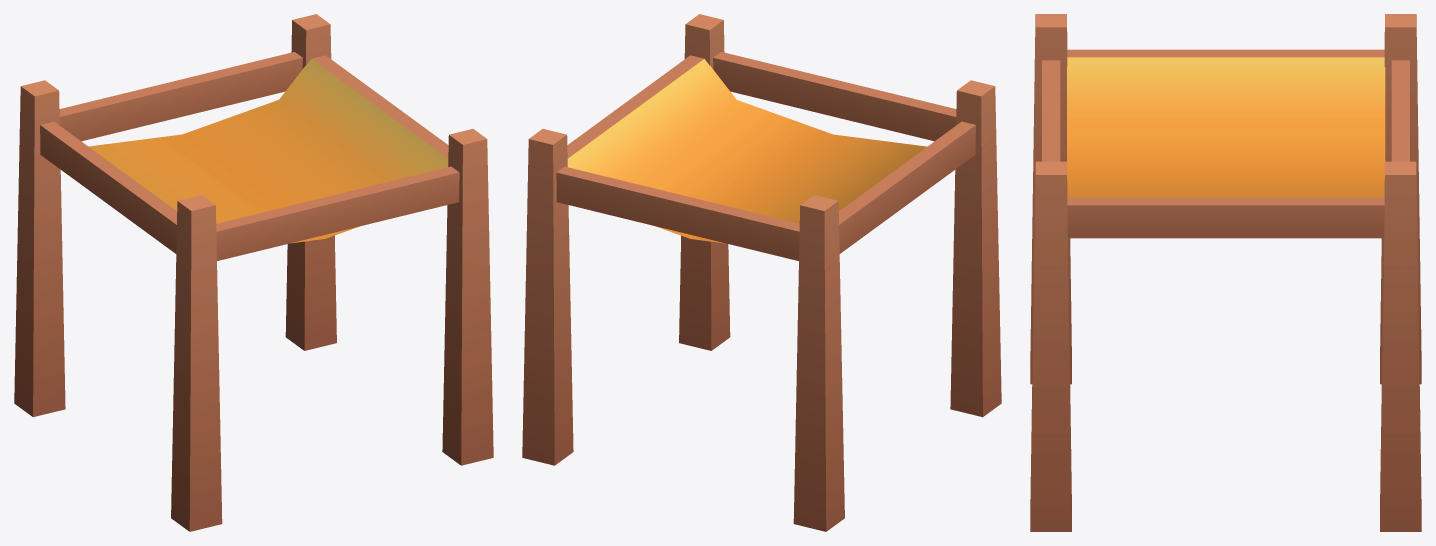
File: structure-canvas.glb
3 renders of one model, left to right at view 1: azimuth 30°, elevation 25°; view 2: azimuth 150°, elevation 25°; view 3: azimuth 270°, elevation 25°, orthographic. The views are drawn at different scales.
Visible parts, largest first — view 1: structure-canvas; view 2: structure-canvas; view 3: structure-canvas.
Part boxes in pixels (x1,y1,x2,y2): structure-canvas: [14, 14, 493, 531]; structure-canvas: [522, 14, 1001, 531]; structure-canvas: [1030, 14, 1421, 531].
Bounding box in the file's own units: 0.5 × 0.5 × 0.5.
Materials: 1 (1 with a texture image).
